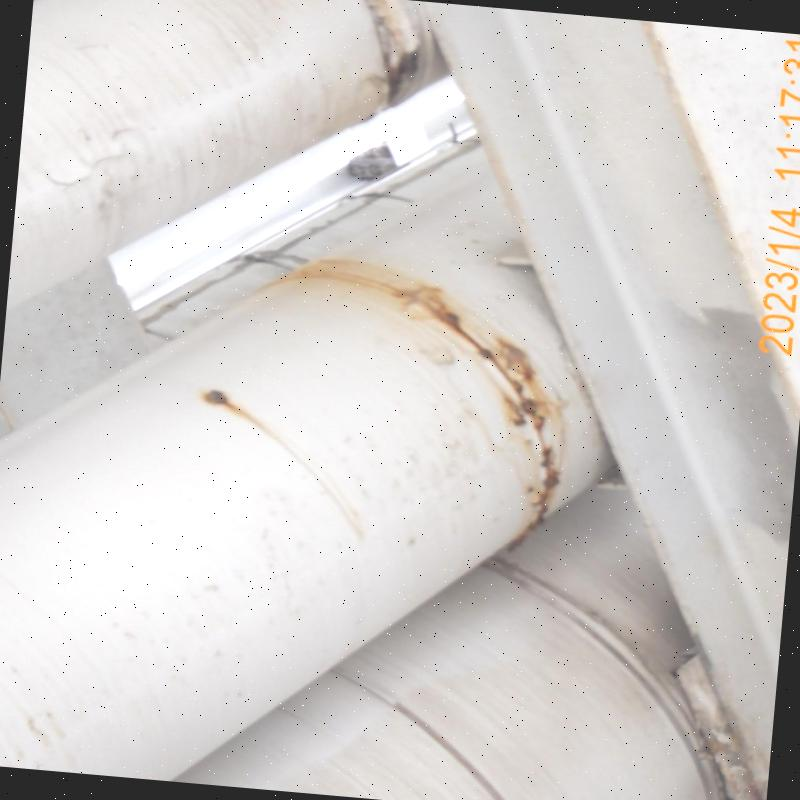corrosion: (374, 268, 528, 382), (518, 384, 576, 540), (192, 382, 233, 416)
